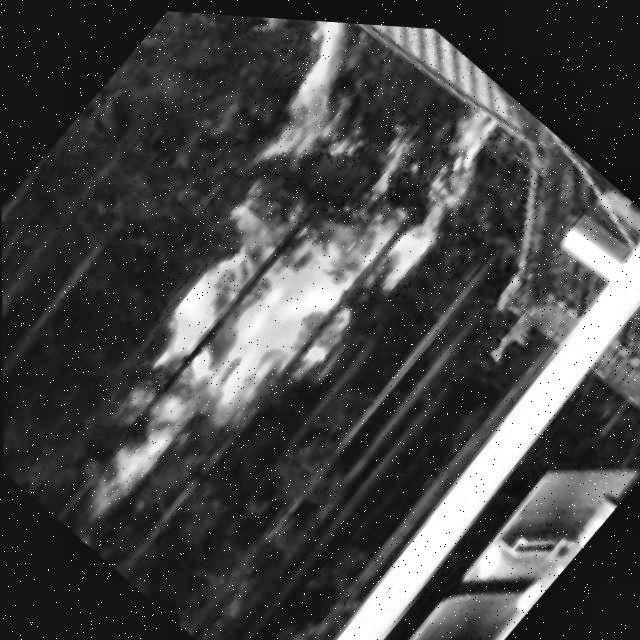Fire: (0, 0, 518, 576)
